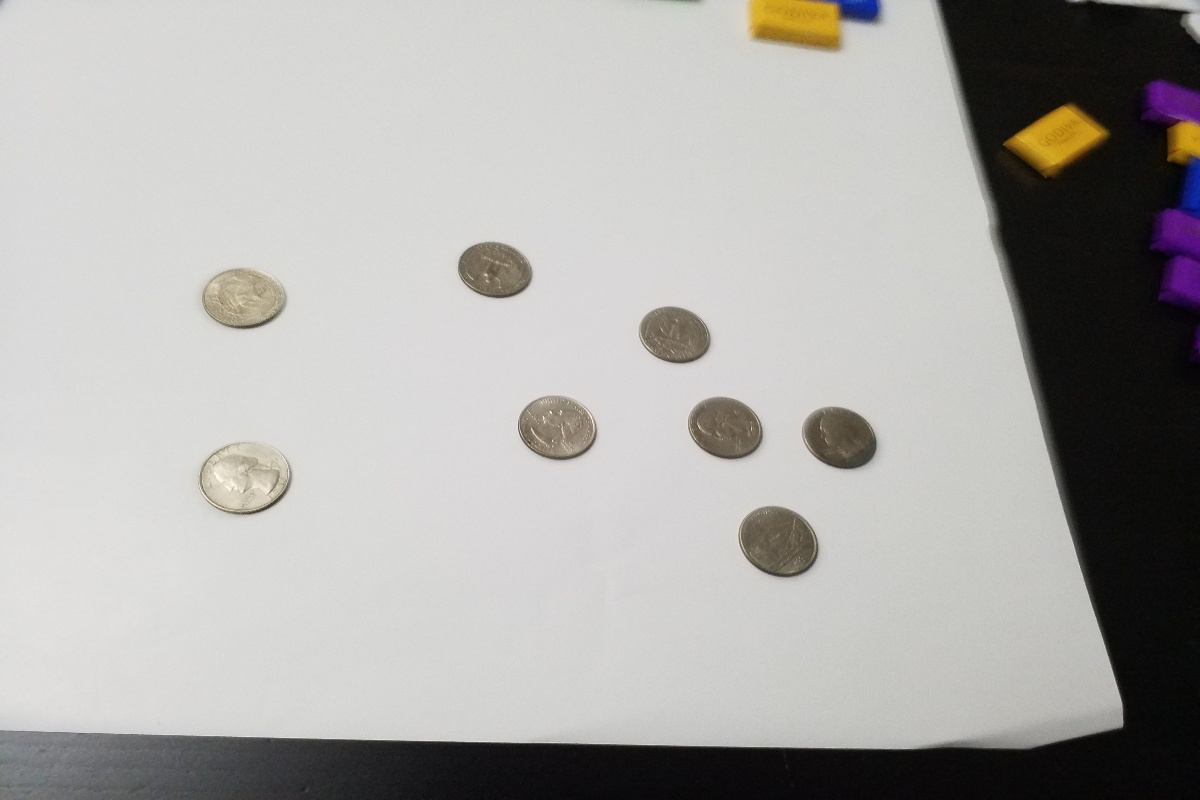coin_quarter: (493, 371, 613, 481), (188, 430, 304, 528), (725, 501, 825, 596), (792, 392, 888, 486), (447, 221, 543, 313), (194, 253, 294, 335), (682, 388, 772, 479), (635, 291, 720, 378)
